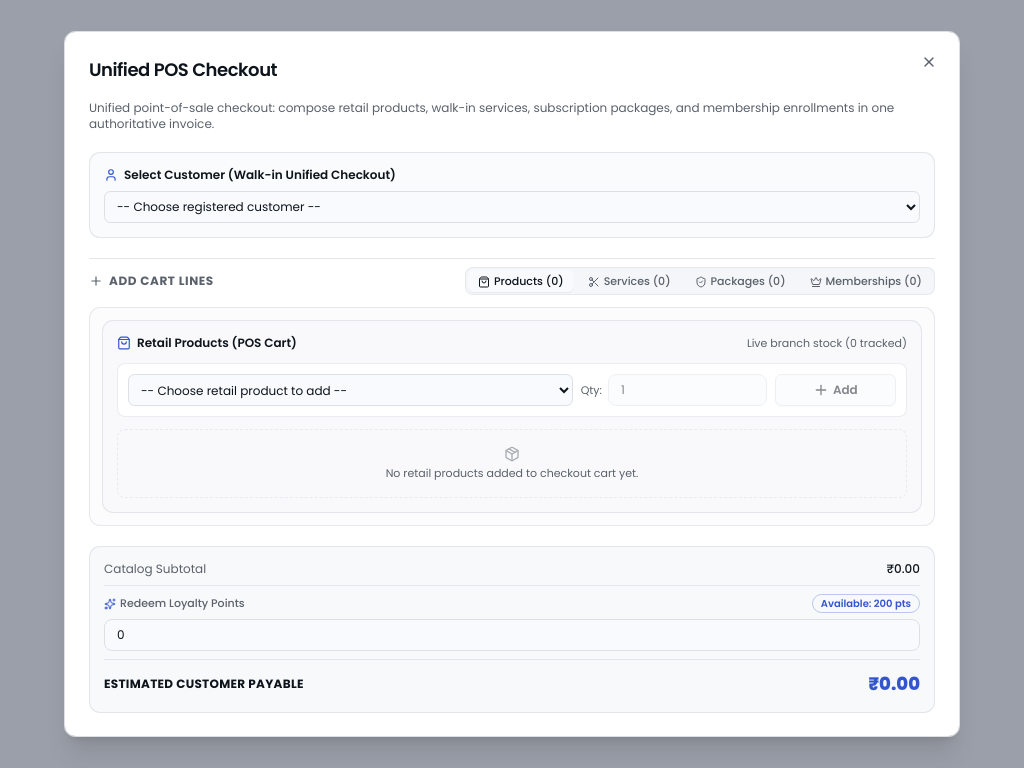
Test case: UnifiedCheckoutDialog (CreateInvoiceDialog Unified Engine) › adds a walk-in service and updates estimated totals in real time
// Switch to Services tab
Click the button "Services (0)".
click(629, 281)  # box [578,270,680,292]
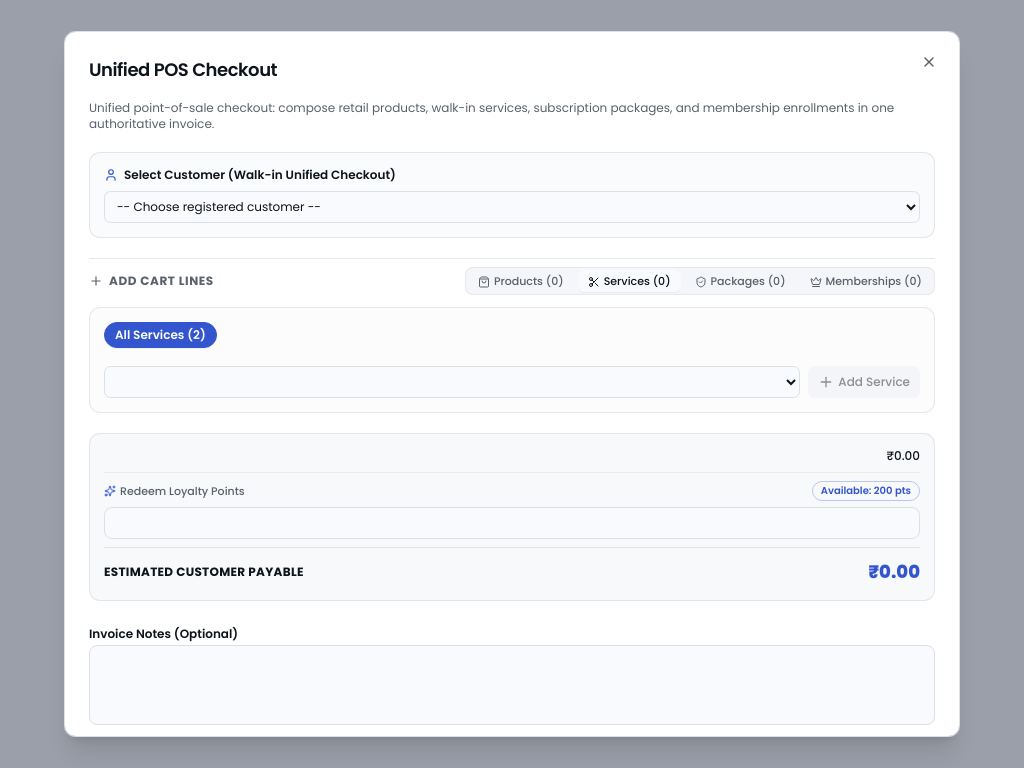
Select "Aromatherapy Massage (60m) — ₹2,000.00" in the 2nd dropdown at (452, 382), box [104,366,800,398]
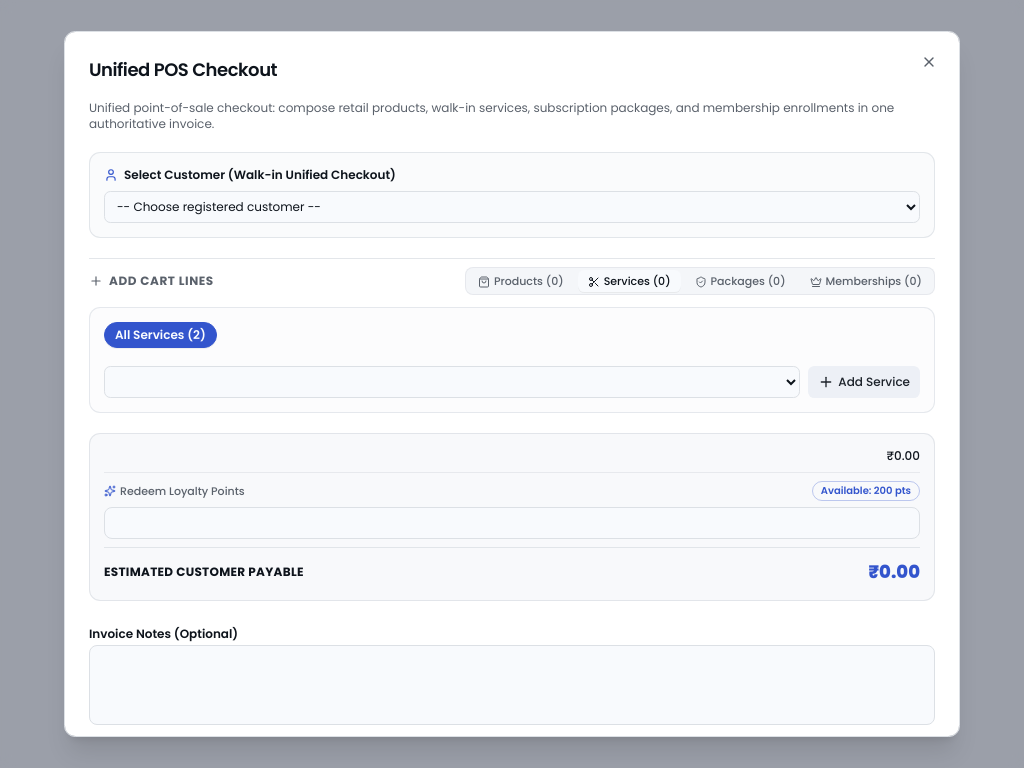
Click the button "Add Service".
click(864, 382)  # box [808,366,920,398]
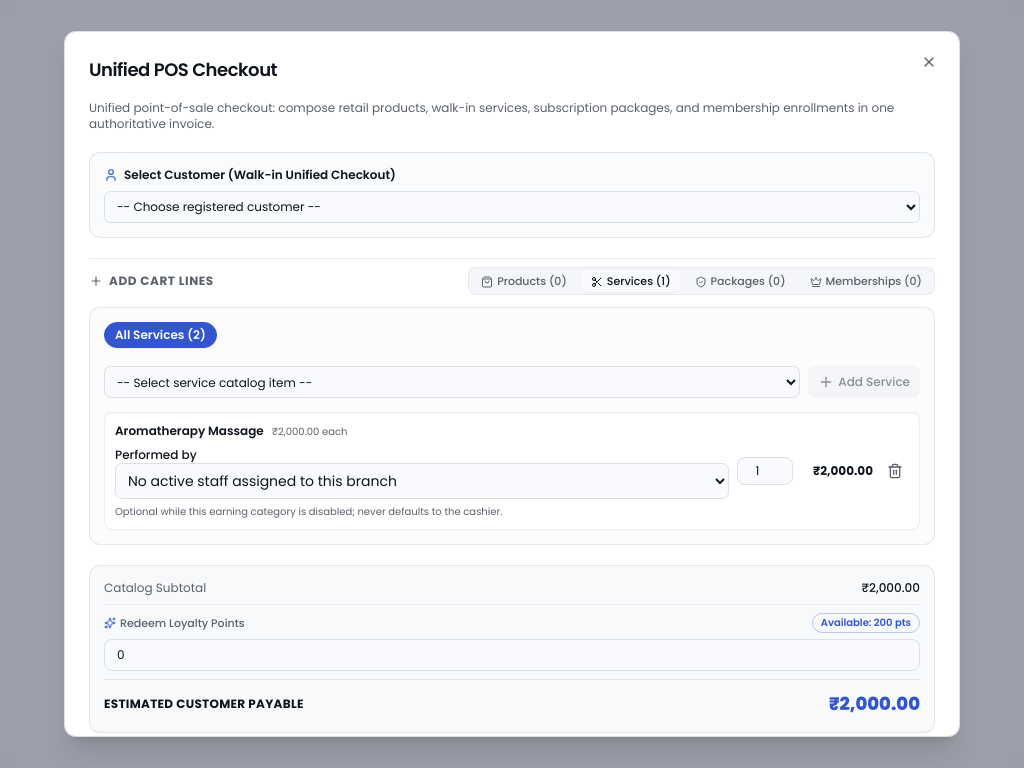
Result: the text "Aromatherapy Massage" is shown at [115,423,264,439]
